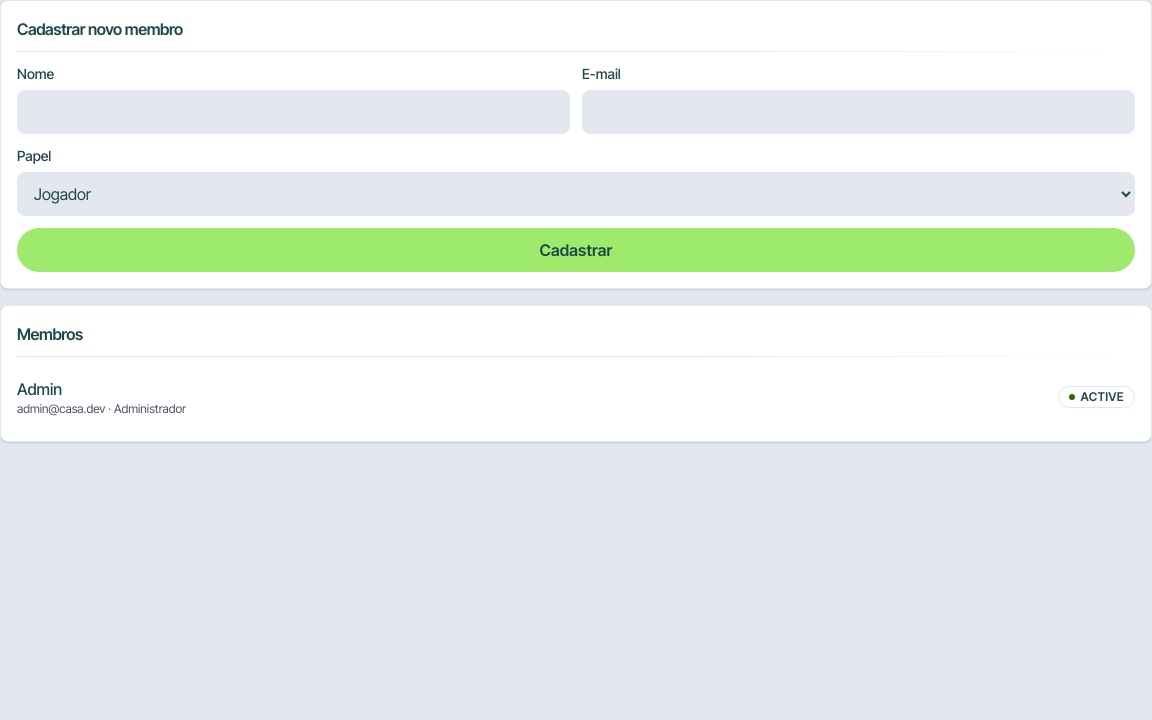
Test: ClubMembersManager › mostra o erro da API quando o cadastro falha
Check: the text "Admin" is shown, box x1=17 y1=379 x2=62 y2=399
Type "X" into the field labelled "Nome".
click(294, 112); type("X")  # box x1=17 y1=90 x2=570 y2=134
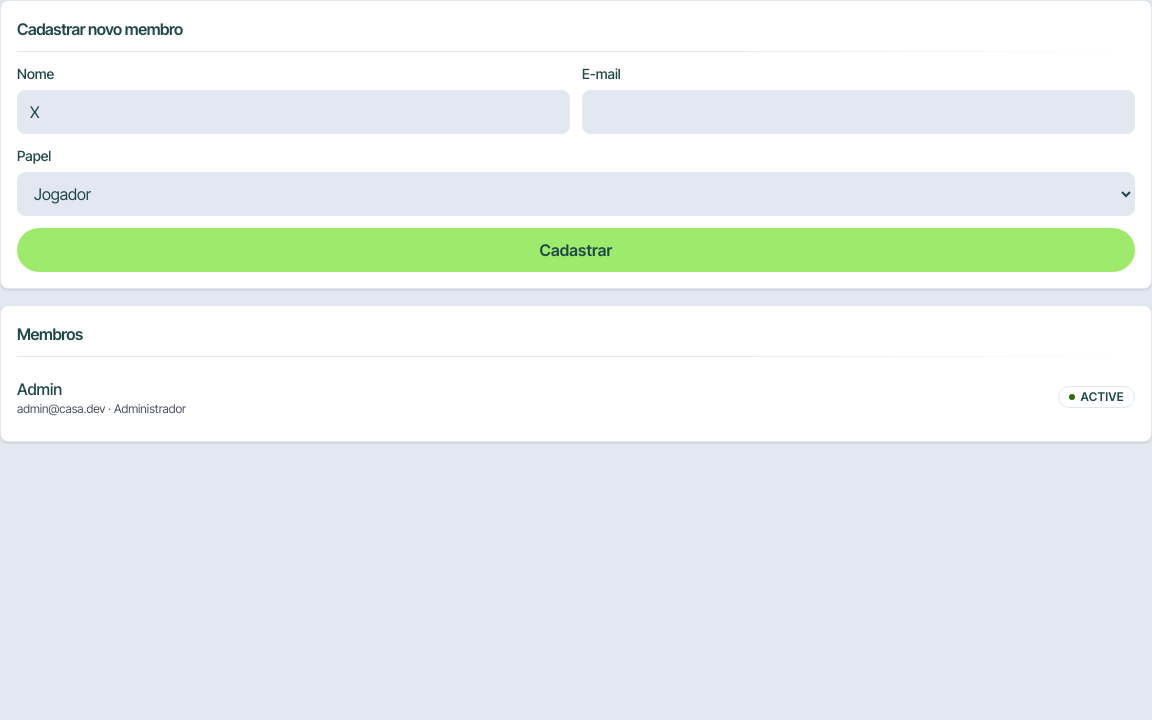
Type "x@casa.dev" into the field labelled "E-mail".
click(858, 112); type("x@casa.dev")  # box x1=582 y1=90 x2=1135 y2=134
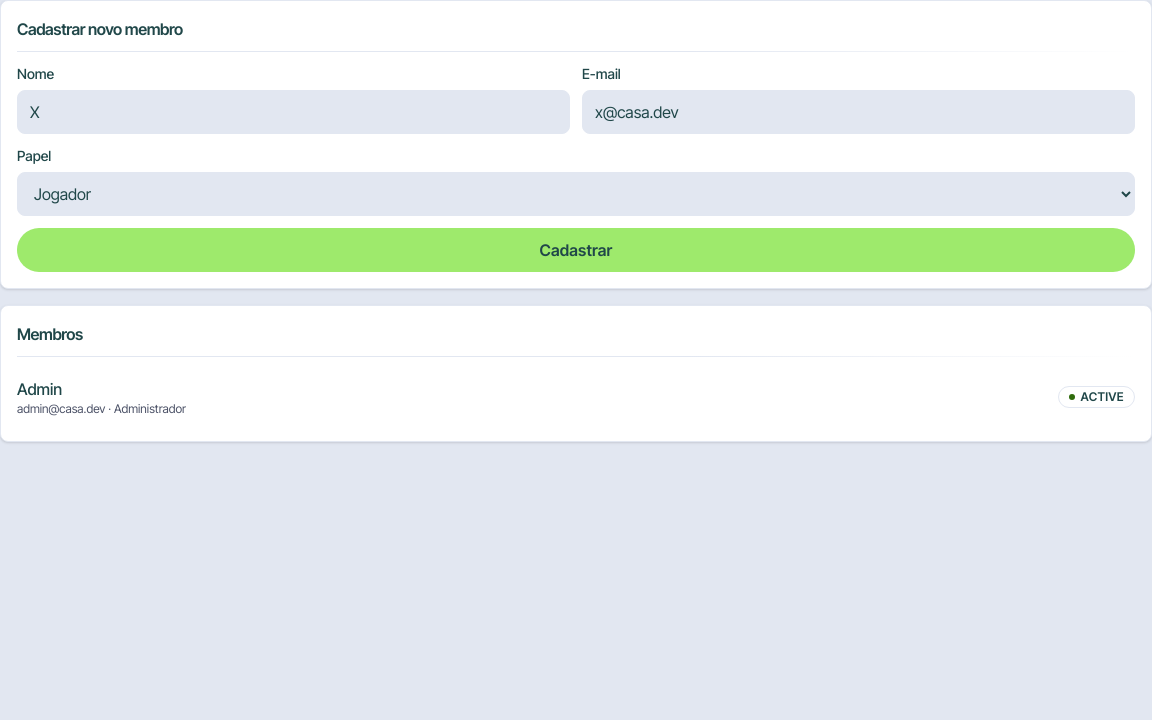
Click the button "Cadastrar".
click(576, 250)  # box x1=17 y1=228 x2=1135 y2=272
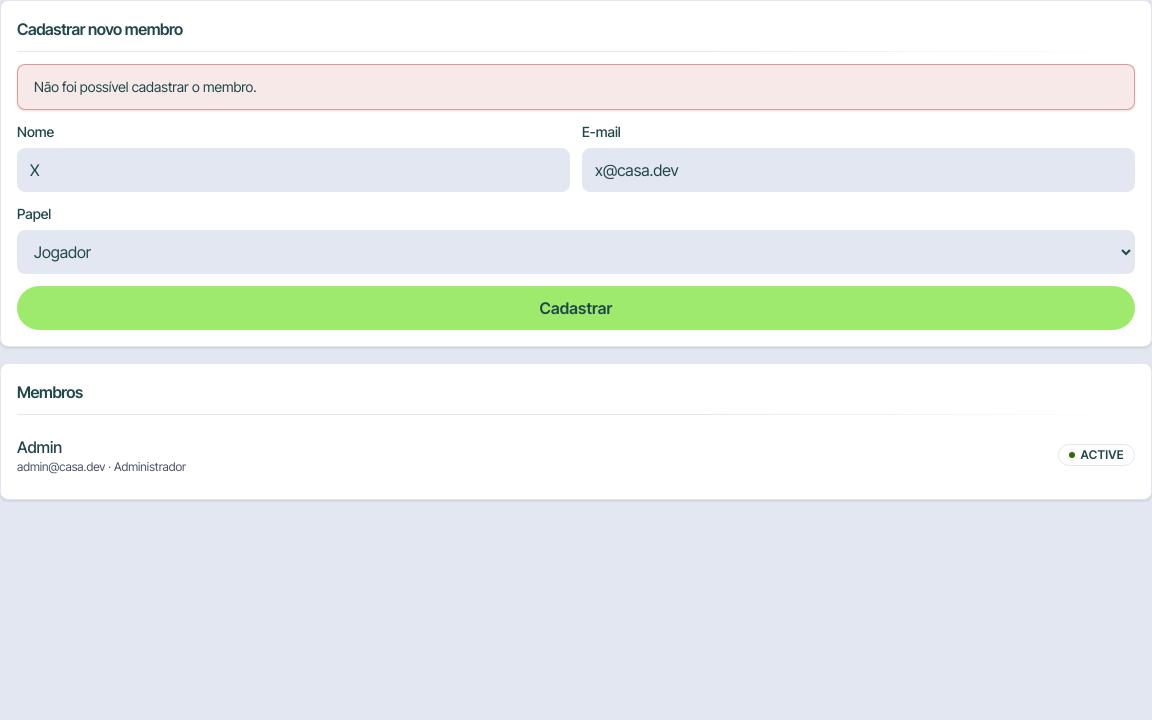
Check: the text "Não foi possível cadastrar o membro." is shown, box x1=34 y1=78 x2=257 y2=95
